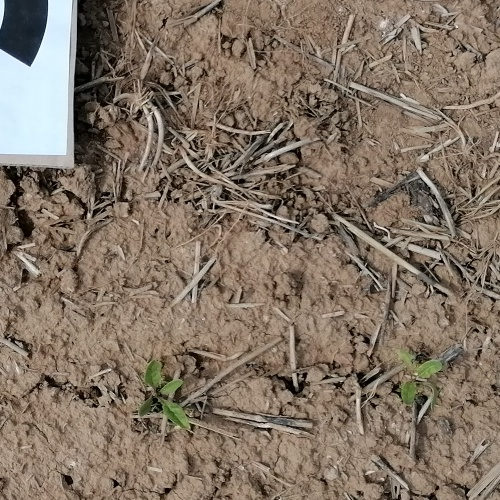beet: (140, 359, 196, 431), (397, 358, 440, 405)
